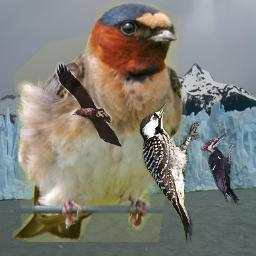Crow: (55, 62, 123, 148)
Swallow: (12, 2, 188, 242)
Woodpecker: (139, 102, 204, 243), (202, 133, 239, 205)
